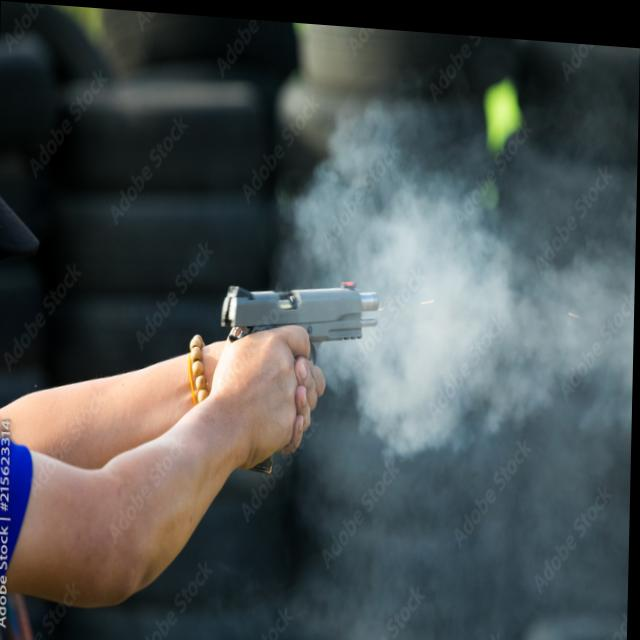handgun: (225, 262, 382, 357)
